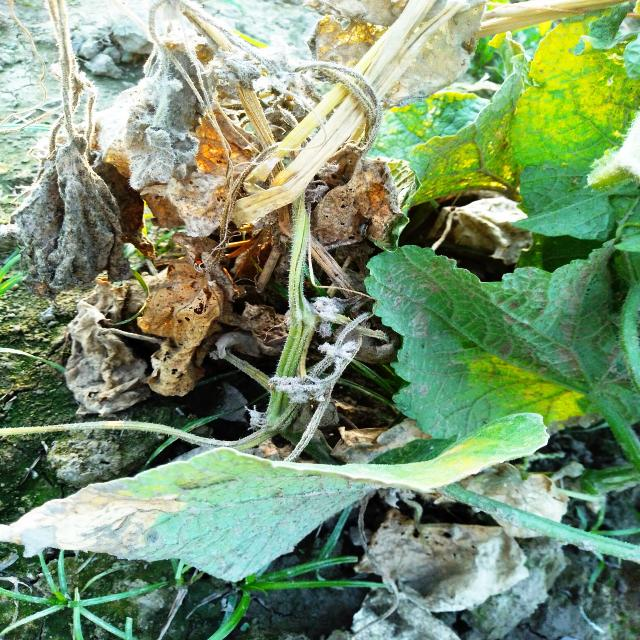Bacterial-Wilt: (1, 126, 160, 304), (129, 248, 293, 398)
